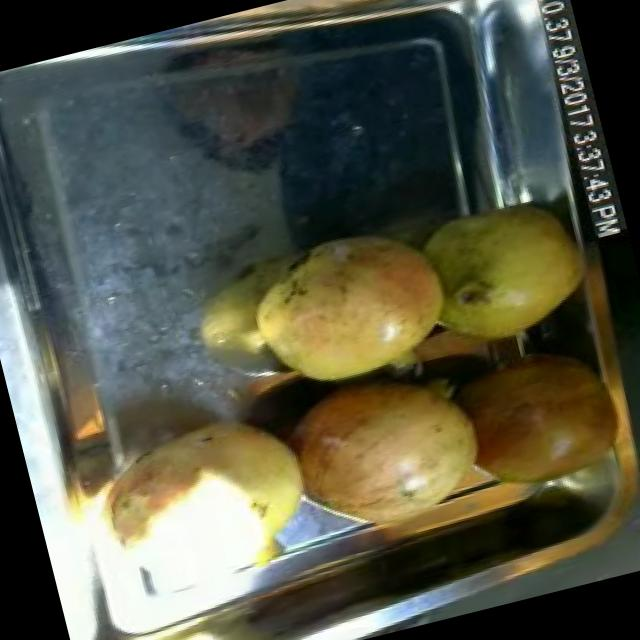fruit: (70, 390, 341, 625), (230, 205, 477, 408), (268, 348, 509, 554), (405, 178, 604, 362), (444, 325, 640, 511)
